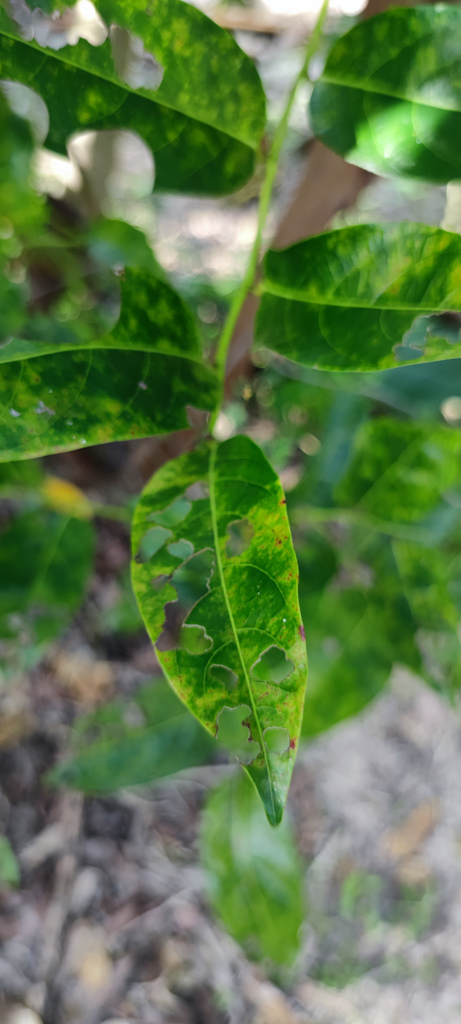Canker: (268, 526, 287, 549), (95, 424, 112, 441), (282, 567, 300, 583), (272, 492, 289, 508), (295, 620, 306, 643), (125, 422, 141, 437), (177, 688, 190, 700), (287, 735, 297, 750)
